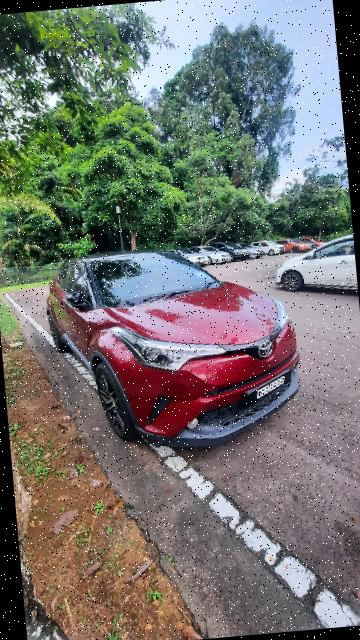License_Plate: (237, 369, 296, 406)
car: (41, 234, 308, 457)
